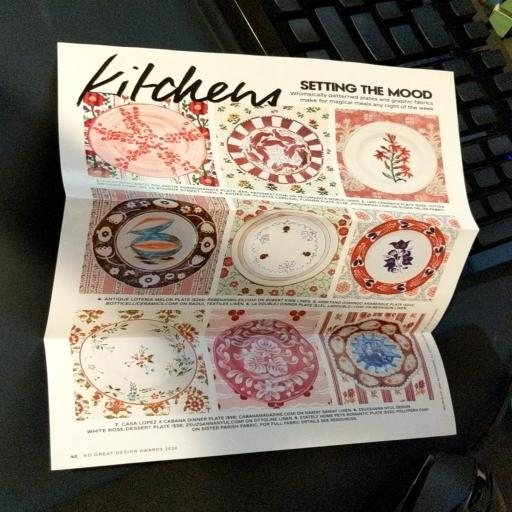paper: (14, 22, 483, 486)
